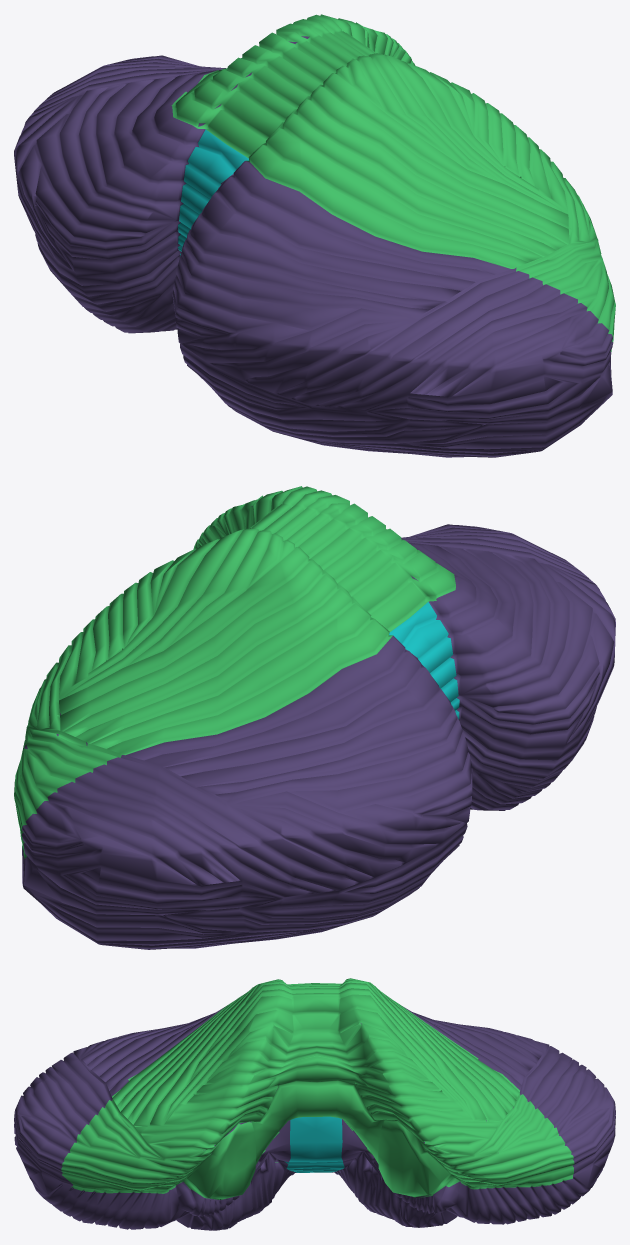
Rendered from cerebellum_with_3_parts.glb.
3 renders of one model, top to bottom at view 1: azimuth 30°, elevation 25°; view 2: azimuth 150°, elevation 25°; view 3: azimuth 270°, elevation 25°, orthographic. The views are drawn at different scales.
Visible parts, largest first — view 1: Brain_Part_02.001; view 2: Brain_Part_02.001; view 3: Brain_Part_02.001.
Part boxes in pixels (x1=…): Brain_Part_02.001: x1=14, y1=14, x2=615, y2=457; Brain_Part_02.001: x1=14, y1=486, x2=615, y2=949; Brain_Part_02.001: x1=14, y1=978, x2=615, y2=1230.
Size of the model in its own units: 1.71 by 1.35 by 3.09.
